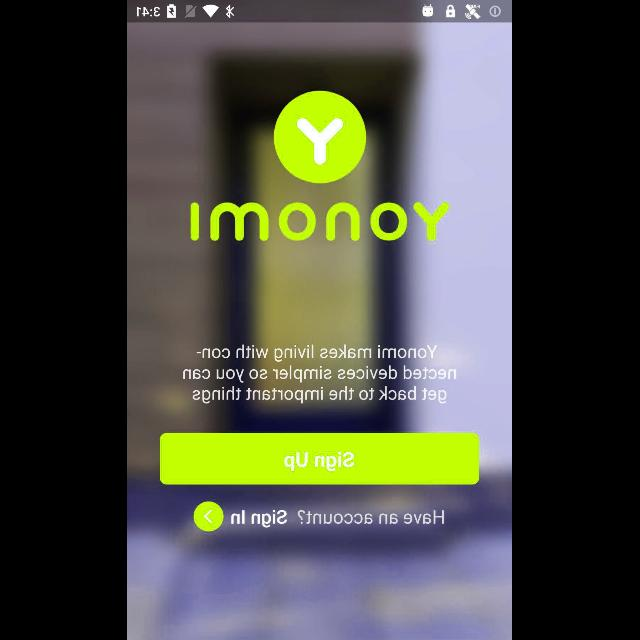backgroundimage: (128, 22, 512, 640)
button: (194, 502, 224, 532)
image: (192, 202, 450, 240), (275, 92, 367, 185)
text: (184, 344, 456, 404), (232, 510, 444, 528)
textbutton: (160, 433, 480, 485)
uppertaskbar: (128, 1, 512, 23)
